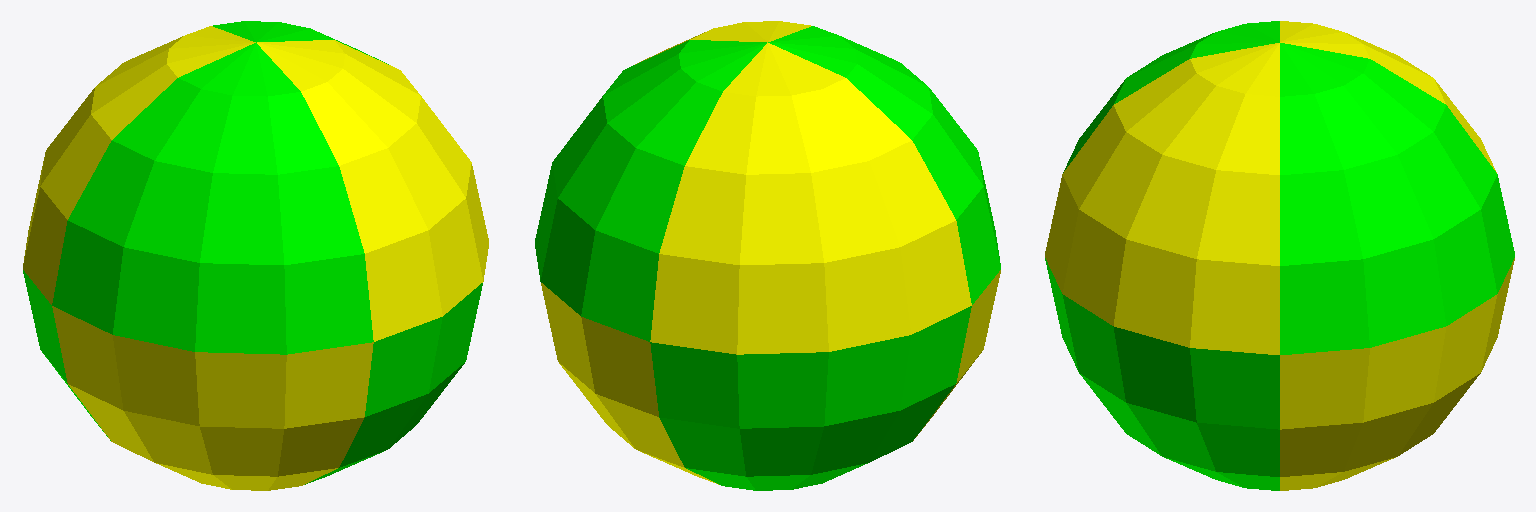
The model's file is ball.obj.
The picture shows the model from 3 angles: view 1: azimuth 30°, elevation 25°; view 2: azimuth 150°, elevation 25°; view 3: azimuth 270°, elevation 25°; orthographic projection.
Parts seen in each view (by area): view 1: sphere1; view 2: sphere1; view 3: sphere1.
Part boxes in pixels (left/top/right/bottom): sphere1: left=23, top=21, right=488, bottom=490; sphere1: left=535, top=21, right=1000, bottom=490; sphere1: left=1045, top=21, right=1514, bottom=490.
Bounding box in the file's own units: 2 × 2 × 2.